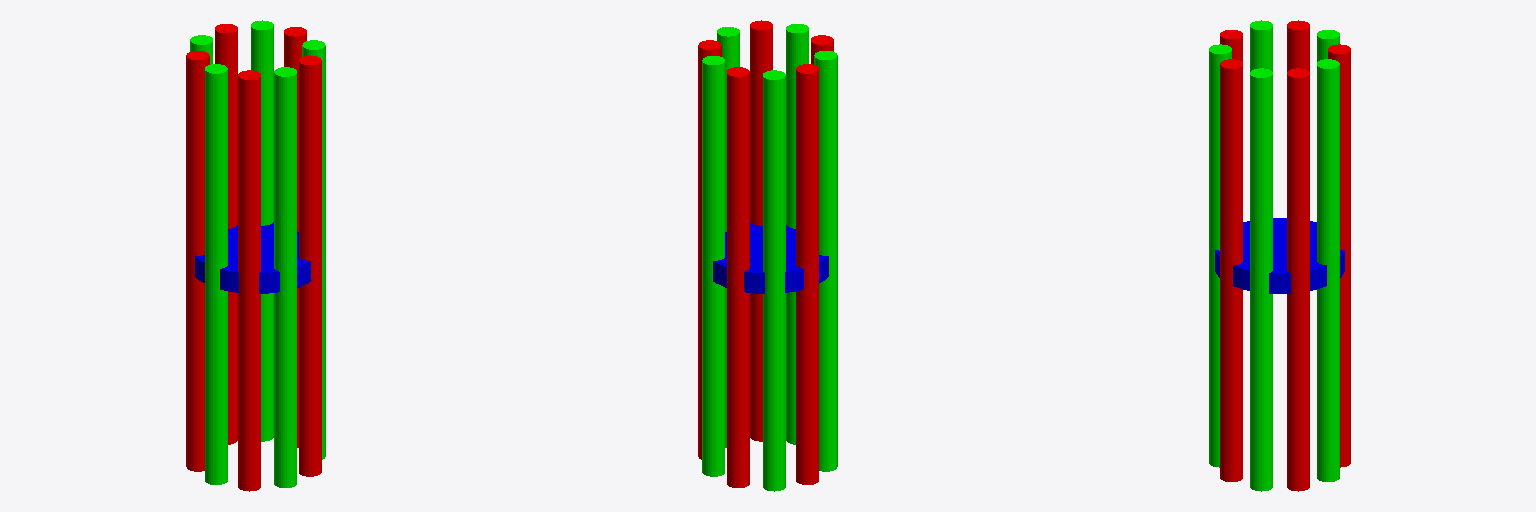
robot.urdf — spider:
<?xml version="1.0"?>
<robot name="spider">
  <link name="base_link">
    <visual><geometry><cylinder length="0.1" radius="0.2899531811245659"/></geometry><material name="blue"><color rgba="0 0 1 1"/></material></visual>
    <collision><geometry><cylinder length="0.1" radius="0.2899531811245659"/></geometry></collision>
    <inertial><mass value="1.0"/><inertia ixx="0.1" iyy="0.1" izz="0.1" ixy="0" ixz="0" iyz="0"/></inertial>
  </link>
  <link name="leg_0">
    <visual><geometry><cylinder length="1.9980666785012107" radius="0.050989371973579556"/></geometry><material name="c_0"><color rgba="1 0 0 1"/></material></visual>
    <collision><geometry><cylinder length="1.9980666785012107" radius="0.050989371973579556"/></geometry></collision>
    <inertial><mass value="0.2"/><inertia ixx="0.01" iyy="0.01" izz="0.01" ixy="0" ixz="0" iyz="0"/></inertial>
    <contact><lateral_friction value="4.0"/></contact>
  </link>
  <joint name="base_to_leg0" type="revolute">
    <parent link="base_link"/>
    <child link="leg_0"/>
    <origin xyz="0.2481856760961246 0.08064041448651128 0" rpy="0 0 0"/>
    <axis xyz="1 0 0"/>
    <limit effort="2000" velocity="100.0" lower="-10000" upper="10000"/>
  </joint>
  <link name="leg_1">
    <visual><geometry><cylinder length="1.9980666785012107" radius="0.050989371973579556"/></geometry><material name="c_1"><color rgba="0 1 0 1"/></material></visual>
    <collision><geometry><cylinder length="1.9980666785012107" radius="0.050989371973579556"/></geometry></collision>
    <inertial><mass value="0.2"/><inertia ixx="0.01" iyy="0.01" izz="0.01" ixy="0" ixz="0" iyz="0"/></inertial>
    <contact><lateral_friction value="4.0"/></contact>
  </link>
  <joint name="base_to_leg1" type="revolute">
    <parent link="base_link"/>
    <child link="leg_1"/>
    <origin xyz="0.15338718334827733 0.21111934599256596 0" rpy="0 0 0"/>
    <axis xyz="1 0 0"/>
    <limit effort="2000" velocity="100.0" lower="-10000" upper="10000"/>
  </joint>
  <link name="leg_2">
    <visual><geometry><cylinder length="1.9980666785012107" radius="0.050989371973579556"/></geometry><material name="c_2"><color rgba="1 0 0 1"/></material></visual>
    <collision><geometry><cylinder length="1.9980666785012107" radius="0.050989371973579556"/></geometry></collision>
    <inertial><mass value="0.2"/><inertia ixx="0.01" iyy="0.01" izz="0.01" ixy="0" ixz="0" iyz="0"/></inertial>
    <contact><lateral_friction value="4.0"/></contact>
  </link>
  <joint name="base_to_leg2" type="revolute">
    <parent link="base_link"/>
    <child link="leg_2"/>
    <origin xyz="1.597906058250566e-17 0.2609578630121093 0" rpy="0 0 0"/>
    <axis xyz="1 0 0"/>
    <limit effort="2000" velocity="100.0" lower="-10000" upper="10000"/>
  </joint>
  <link name="leg_3">
    <visual><geometry><cylinder length="1.9980666785012107" radius="0.050989371973579556"/></geometry><material name="c_3"><color rgba="0 1 0 1"/></material></visual>
    <collision><geometry><cylinder length="1.9980666785012107" radius="0.050989371973579556"/></geometry></collision>
    <inertial><mass value="0.2"/><inertia ixx="0.01" iyy="0.01" izz="0.01" ixy="0" ixz="0" iyz="0"/></inertial>
    <contact><lateral_friction value="4.0"/></contact>
  </link>
  <joint name="base_to_leg3" type="revolute">
    <parent link="base_link"/>
    <child link="leg_3"/>
    <origin xyz="-0.1533871833482773 0.21111934599256596 0" rpy="0 0 0"/>
    <axis xyz="1 0 0"/>
    <limit effort="2000" velocity="100.0" lower="-10000" upper="10000"/>
  </joint>
  <link name="leg_4">
    <visual><geometry><cylinder length="1.9980666785012107" radius="0.050989371973579556"/></geometry><material name="c_4"><color rgba="1 0 0 1"/></material></visual>
    <collision><geometry><cylinder length="1.9980666785012107" radius="0.050989371973579556"/></geometry></collision>
    <inertial><mass value="0.2"/><inertia ixx="0.01" iyy="0.01" izz="0.01" ixy="0" ixz="0" iyz="0"/></inertial>
    <contact><lateral_friction value="4.0"/></contact>
  </link>
  <joint name="base_to_leg4" type="revolute">
    <parent link="base_link"/>
    <child link="leg_4"/>
    <origin xyz="-0.2481856760961246 0.08064041448651131 0" rpy="0 0 0"/>
    <axis xyz="1 0 0"/>
    <limit effort="2000" velocity="100.0" lower="-10000" upper="10000"/>
  </joint>
  <link name="leg_5">
    <visual><geometry><cylinder length="1.9980666785012107" radius="0.050989371973579556"/></geometry><material name="c_5"><color rgba="0 1 0 1"/></material></visual>
    <collision><geometry><cylinder length="1.9980666785012107" radius="0.050989371973579556"/></geometry></collision>
    <inertial><mass value="0.2"/><inertia ixx="0.01" iyy="0.01" izz="0.01" ixy="0" ixz="0" iyz="0"/></inertial>
    <contact><lateral_friction value="4.0"/></contact>
  </link>
  <joint name="base_to_leg5" type="revolute">
    <parent link="base_link"/>
    <child link="leg_5"/>
    <origin xyz="-0.24818567609612463 -0.08064041448651126 0" rpy="0 0 0"/>
    <axis xyz="1 0 0"/>
    <limit effort="2000" velocity="100.0" lower="-10000" upper="10000"/>
  </joint>
  <link name="leg_6">
    <visual><geometry><cylinder length="1.9980666785012107" radius="0.050989371973579556"/></geometry><material name="c_6"><color rgba="1 0 0 1"/></material></visual>
    <collision><geometry><cylinder length="1.9980666785012107" radius="0.050989371973579556"/></geometry></collision>
    <inertial><mass value="0.2"/><inertia ixx="0.01" iyy="0.01" izz="0.01" ixy="0" ixz="0" iyz="0"/></inertial>
    <contact><lateral_friction value="4.0"/></contact>
  </link>
  <joint name="base_to_leg6" type="revolute">
    <parent link="base_link"/>
    <child link="leg_6"/>
    <origin xyz="-0.15338718334827736 -0.21111934599256593 0" rpy="0 0 0"/>
    <axis xyz="1 0 0"/>
    <limit effort="2000" velocity="100.0" lower="-10000" upper="10000"/>
  </joint>
  <link name="leg_7">
    <visual><geometry><cylinder length="1.9980666785012107" radius="0.050989371973579556"/></geometry><material name="c_7"><color rgba="0 1 0 1"/></material></visual>
    <collision><geometry><cylinder length="1.9980666785012107" radius="0.050989371973579556"/></geometry></collision>
    <inertial><mass value="0.2"/><inertia ixx="0.01" iyy="0.01" izz="0.01" ixy="0" ixz="0" iyz="0"/></inertial>
    <contact><lateral_friction value="4.0"/></contact>
  </link>
  <joint name="base_to_leg7" type="revolute">
    <parent link="base_link"/>
    <child link="leg_7"/>
    <origin xyz="-4.793718174751697e-17 -0.2609578630121093 0" rpy="0 0 0"/>
    <axis xyz="1 0 0"/>
    <limit effort="2000" velocity="100.0" lower="-10000" upper="10000"/>
  </joint>
  <link name="leg_8">
    <visual><geometry><cylinder length="1.9980666785012107" radius="0.050989371973579556"/></geometry><material name="c_8"><color rgba="1 0 0 1"/></material></visual>
    <collision><geometry><cylinder length="1.9980666785012107" radius="0.050989371973579556"/></geometry></collision>
    <inertial><mass value="0.2"/><inertia ixx="0.01" iyy="0.01" izz="0.01" ixy="0" ixz="0" iyz="0"/></inertial>
    <contact><lateral_friction value="4.0"/></contact>
  </link>
  <joint name="base_to_leg8" type="revolute">
    <parent link="base_link"/>
    <child link="leg_8"/>
    <origin xyz="0.15338718334827728 -0.211119345992566 0" rpy="0 0 0"/>
    <axis xyz="1 0 0"/>
    <limit effort="2000" velocity="100.0" lower="-10000" upper="10000"/>
  </joint>
  <link name="leg_9">
    <visual><geometry><cylinder length="1.9980666785012107" radius="0.050989371973579556"/></geometry><material name="c_9"><color rgba="0 1 0 1"/></material></visual>
    <collision><geometry><cylinder length="1.9980666785012107" radius="0.050989371973579556"/></geometry></collision>
    <inertial><mass value="0.2"/><inertia ixx="0.01" iyy="0.01" izz="0.01" ixy="0" ixz="0" iyz="0"/></inertial>
    <contact><lateral_friction value="4.0"/></contact>
  </link>
  <joint name="base_to_leg9" type="revolute">
    <parent link="base_link"/>
    <child link="leg_9"/>
    <origin xyz="0.2481856760961246 -0.08064041448651135 0" rpy="0 0 0"/>
    <axis xyz="1 0 0"/>
    <limit effort="2000" velocity="100.0" lower="-10000" upper="10000"/>
  </joint>
</robot>

--- Render facts (derived) ---
3 views of the same robot in one strip: view 1: azimuth 30°, elevation 25°; view 2: azimuth 150°, elevation 25°; view 3: azimuth 270°, elevation 25° (orthographic).
Robot: spider — 11 links, 10 joints (10 revolute); root link base_link; default pose: every joint at zero.
Visible links, largest first — view 1: leg_6, leg_7, leg_5, leg_8, leg_4, leg_1, leg_2, base_link, leg_9, leg_0; view 2: leg_3, leg_2, leg_4, leg_1, leg_5, leg_8, leg_7, base_link, leg_0, leg_9; view 3: leg_0, leg_9, leg_1, leg_8, leg_2, leg_7, base_link, leg_4, leg_5.
Boxes of the visible links, x1=… form: leg_6: x1=238, y1=70, x2=260, y2=491; leg_7: x1=274, y1=67, x2=296, y2=487; leg_5: x1=205, y1=64, x2=227, y2=484; leg_8: x1=299, y1=56, x2=321, y2=476; leg_4: x1=186, y1=51, x2=209, y2=471; leg_1: x1=251, y1=20, x2=273, y2=441; leg_2: x1=215, y1=24, x2=237, y2=444; base_link: x1=195, y1=222, x2=310, y2=293; leg_9: x1=302, y1=40, x2=325, y2=459; leg_0: x1=284, y1=27, x2=306, y2=447; leg_3: x1=763, y1=70, x2=785, y2=491; leg_2: x1=727, y1=67, x2=749, y2=487; leg_4: x1=796, y1=64, x2=818, y2=484; leg_1: x1=702, y1=56, x2=724, y2=476; leg_5: x1=814, y1=51, x2=837, y2=471; leg_8: x1=750, y1=20, x2=772, y2=441; leg_7: x1=786, y1=24, x2=808, y2=444; base_link: x1=713, y1=222, x2=828, y2=293; leg_0: x1=698, y1=40, x2=721, y2=459; leg_9: x1=717, y1=27, x2=739, y2=447; leg_0: x1=1287, y1=68, x2=1309, y2=491; leg_9: x1=1250, y1=68, x2=1272, y2=491; leg_1: x1=1317, y1=59, x2=1339, y2=481; leg_8: x1=1220, y1=59, x2=1242, y2=481; leg_2: x1=1328, y1=44, x2=1350, y2=467; leg_7: x1=1209, y1=44, x2=1231, y2=467; base_link: x1=1215, y1=218, x2=1344, y2=293; leg_4: x1=1287, y1=20, x2=1309, y2=71; leg_5: x1=1250, y1=20, x2=1272, y2=71.
Size in the robot's own frame: 0.5984 by 0.6239 by 2 metres.
Geometry: primitives only (box / cylinder / sphere), no mesh files.
